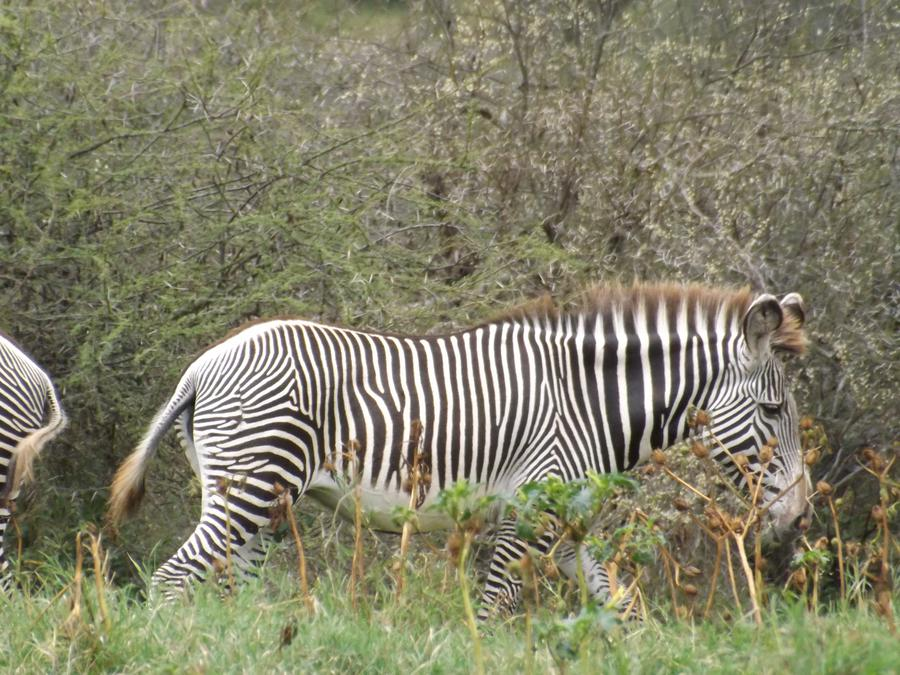zebra_grevys: (173, 298, 601, 526)
